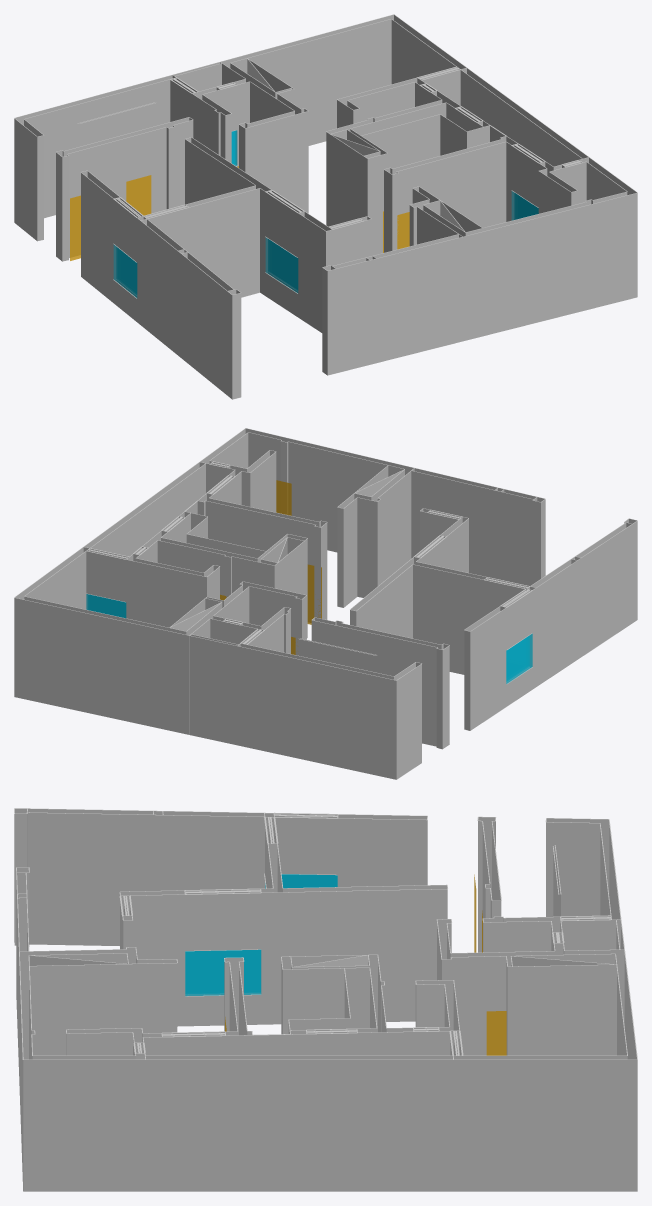
File: da52e5a1-b711-4c52-922d-443fd1c0ffb4_no_roof.glb
The picture shows the model from 3 angles, top to bottom: view 1: azimuth 30°, elevation 25°; view 2: azimuth 150°, elevation 25°; view 3: azimuth 270°, elevation 25°; orthographic projection. The views are drawn at different scales.
Parts seen in each view (by area): view 1: walls, windows, doors; view 2: walls, windows, doors; view 3: walls, windows, doors.
Part boxes in pixels (x1,y1,x2,y2): walls: [14, 14, 637, 399]; windows: [113, 130, 538, 298]; doors: [70, 166, 409, 260]; walls: [14, 428, 637, 779]; windows: [86, 594, 532, 683]; doors: [220, 480, 321, 654]; walls: [14, 808, 637, 1191]; windows: [185, 874, 337, 996]; doors: [225, 874, 506, 1055].
Bounding box in the file's own units: 14.34 × 3.5 × 15.01.
